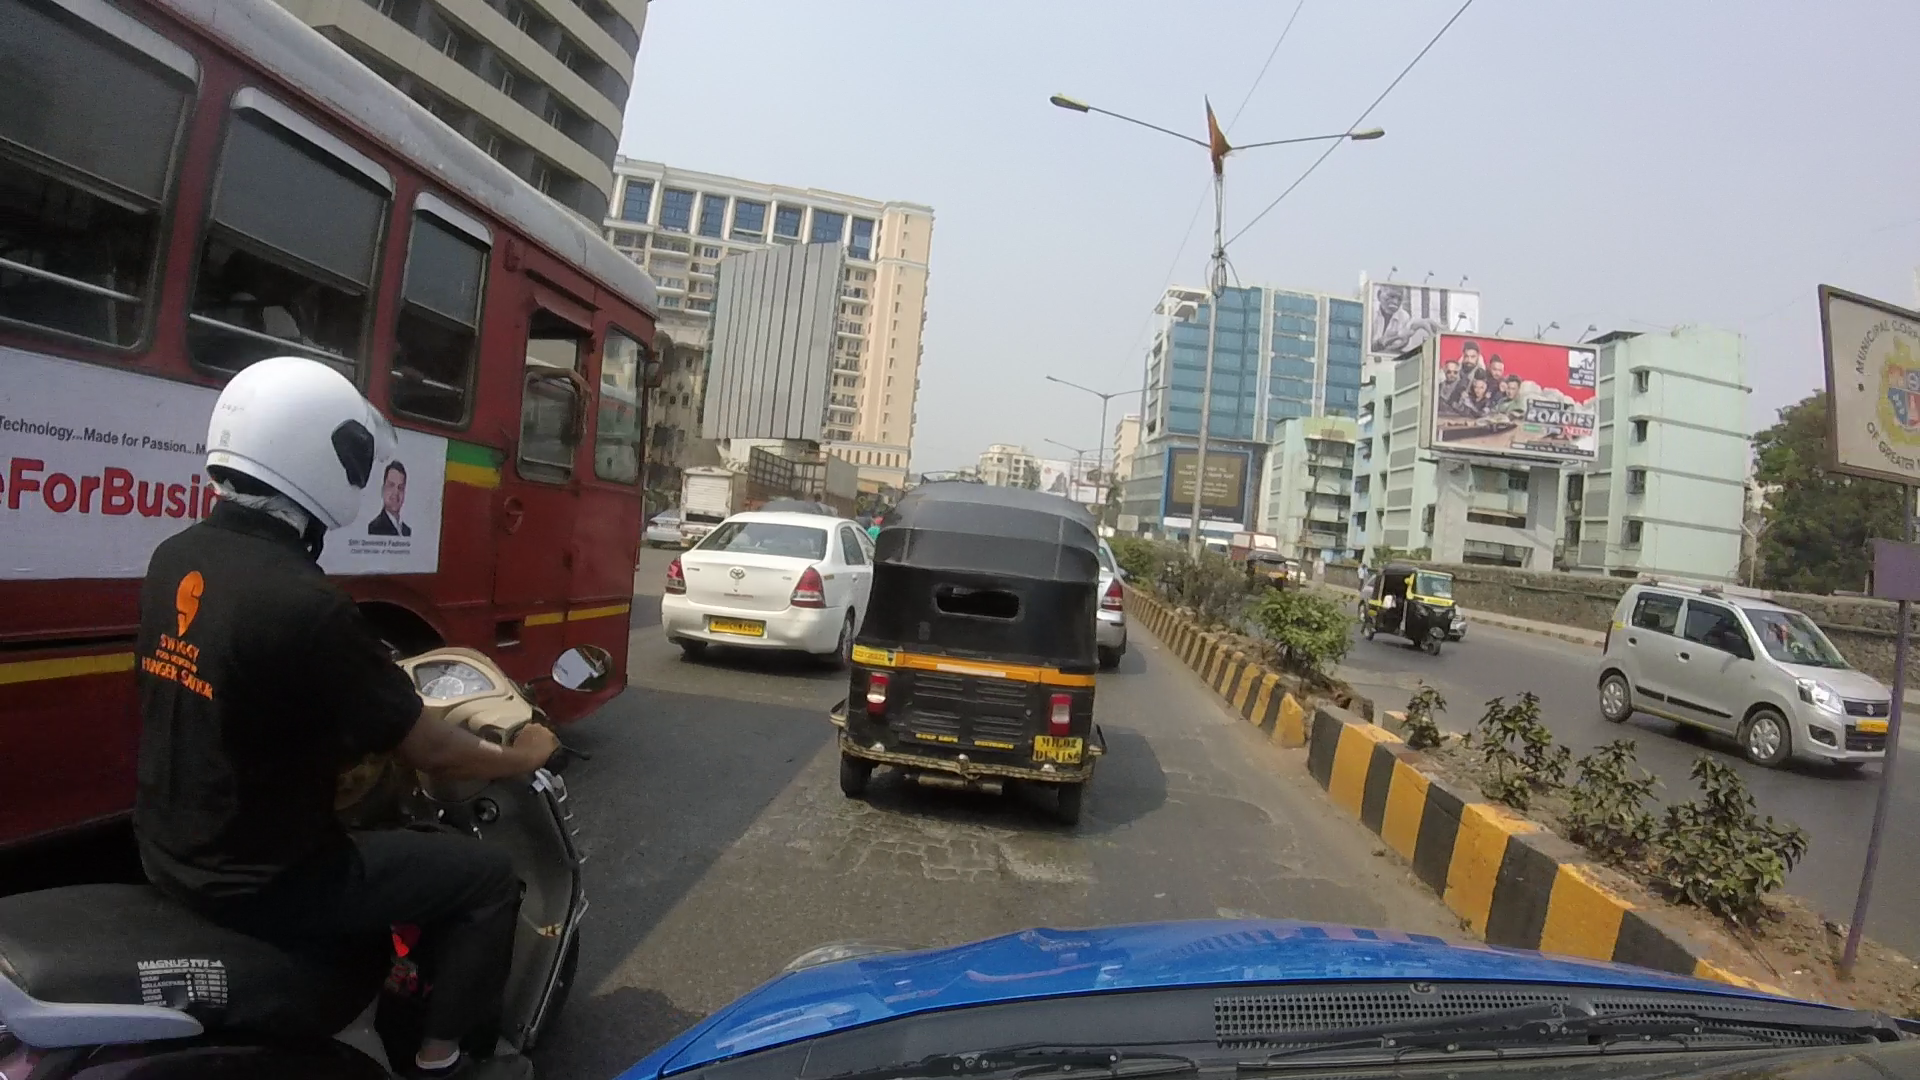bike/scooter: (11, 351, 613, 1080)
bus: (8, 4, 644, 723)
car: (1596, 574, 1908, 774), (651, 510, 866, 666)
rickshaw: (849, 480, 1102, 816), (1356, 566, 1455, 669)
